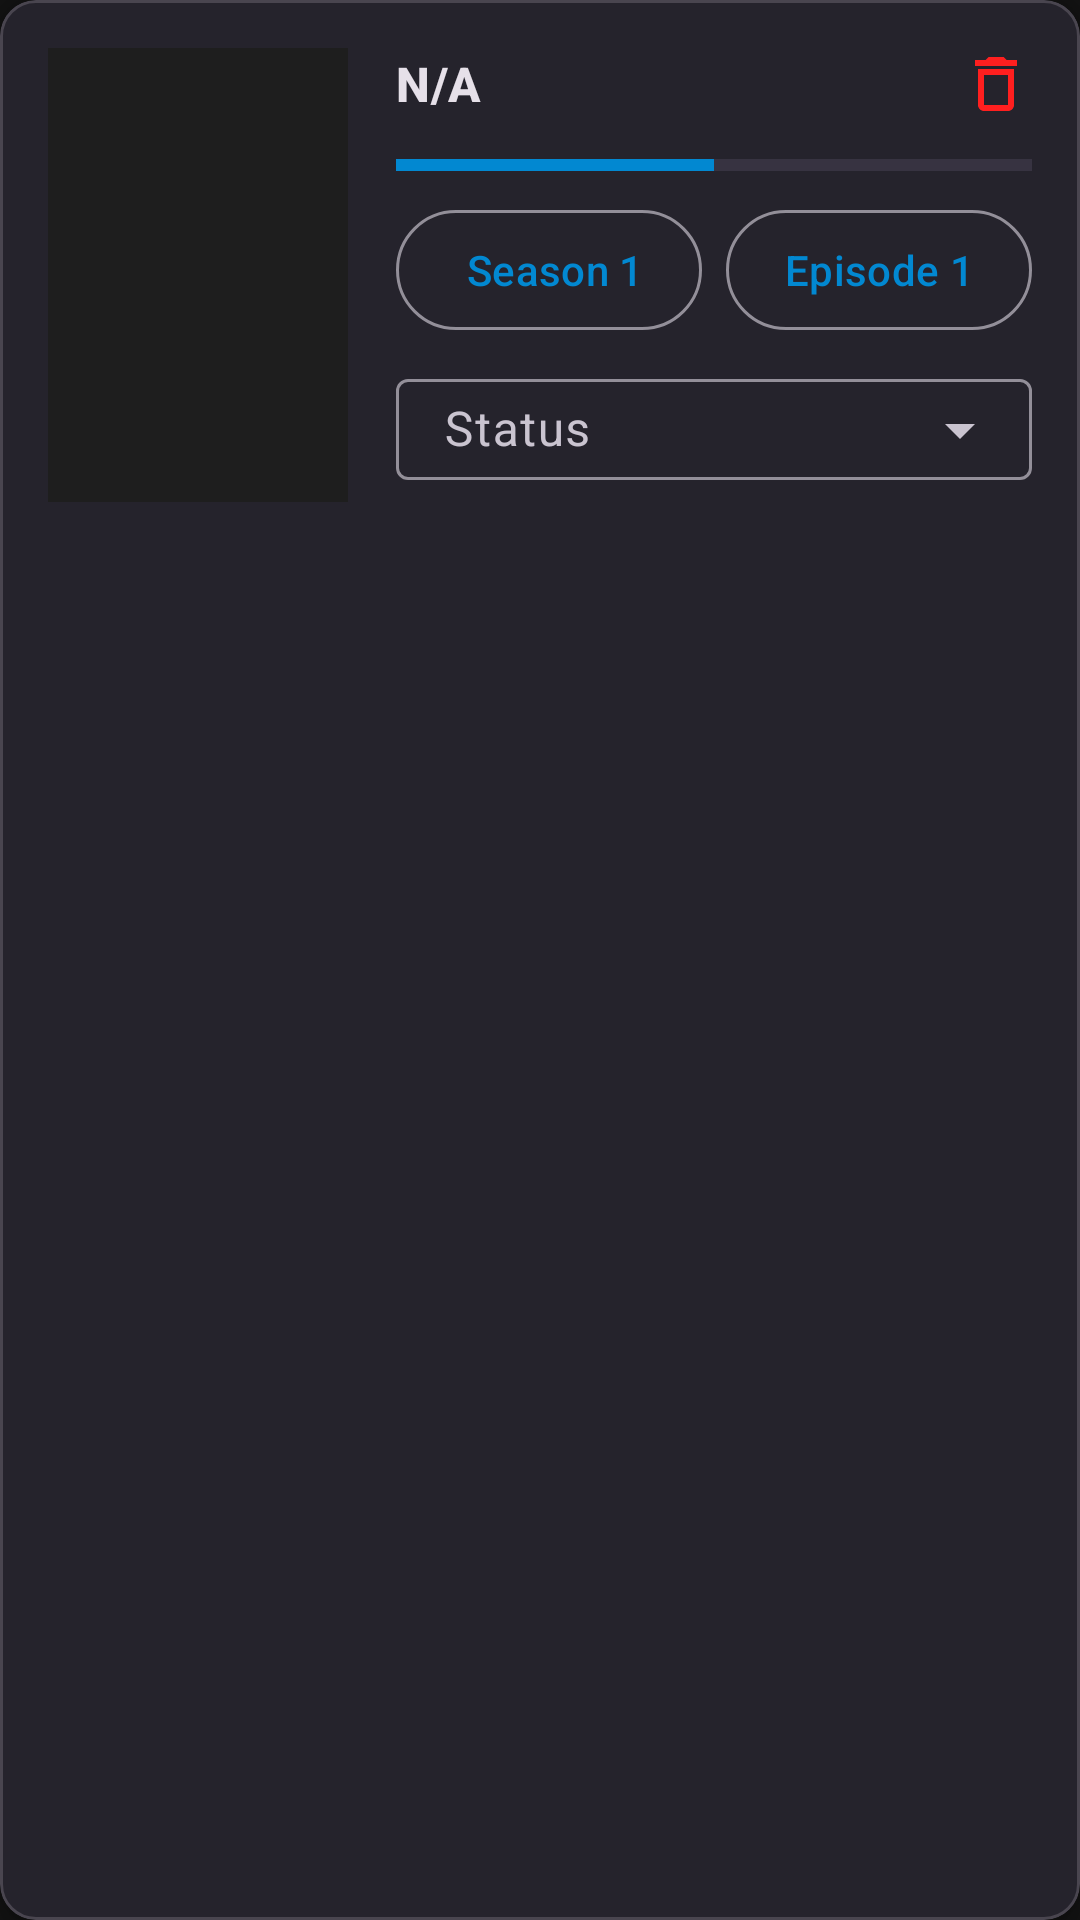

Named icons in this screenshot (1080px x 1920px) and their centers, (x=x, y=y):
delete: (x=996, y=84)
